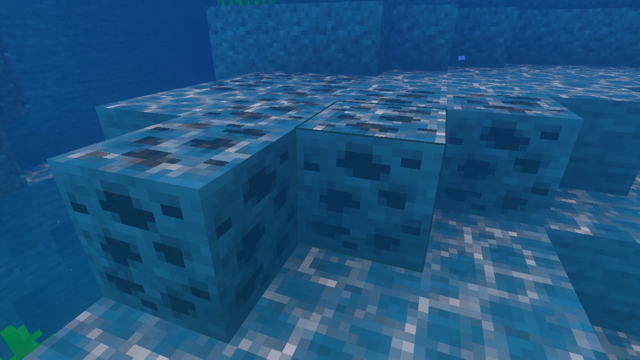coal: (48, 71, 584, 341)
